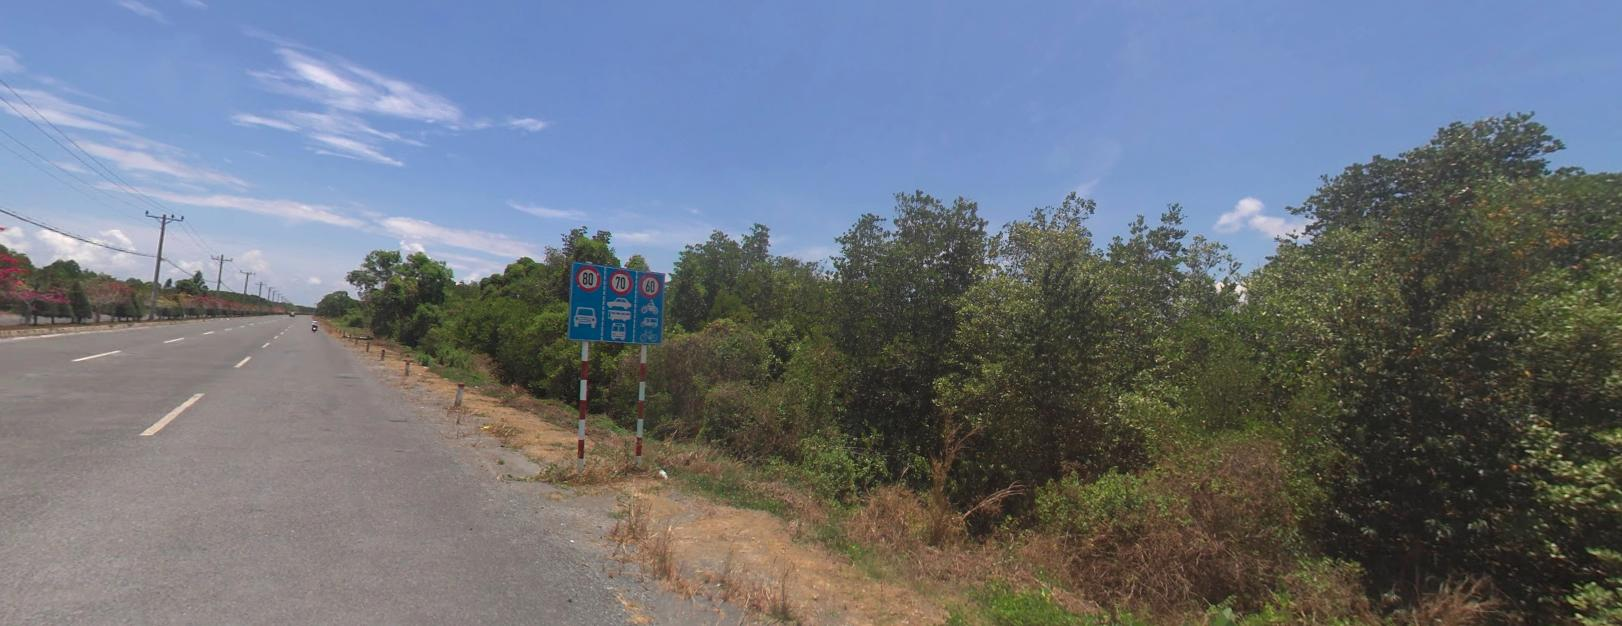Gioi han toc do: (575, 262, 601, 288), (576, 262, 601, 289), (607, 266, 632, 293), (608, 265, 632, 293), (575, 264, 600, 290), (575, 263, 600, 289), (609, 266, 633, 293), (576, 264, 600, 289), (575, 264, 599, 289), (608, 268, 631, 293), (638, 270, 661, 295), (608, 268, 631, 292), (609, 268, 631, 292), (639, 272, 660, 297), (639, 270, 660, 295), (638, 272, 660, 295), (639, 272, 659, 295), (640, 273, 659, 296)
